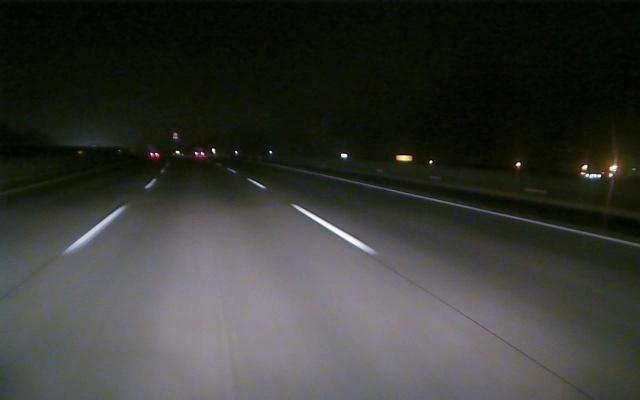lane: (288, 168, 639, 248), (249, 177, 381, 255), (61, 179, 156, 254)
